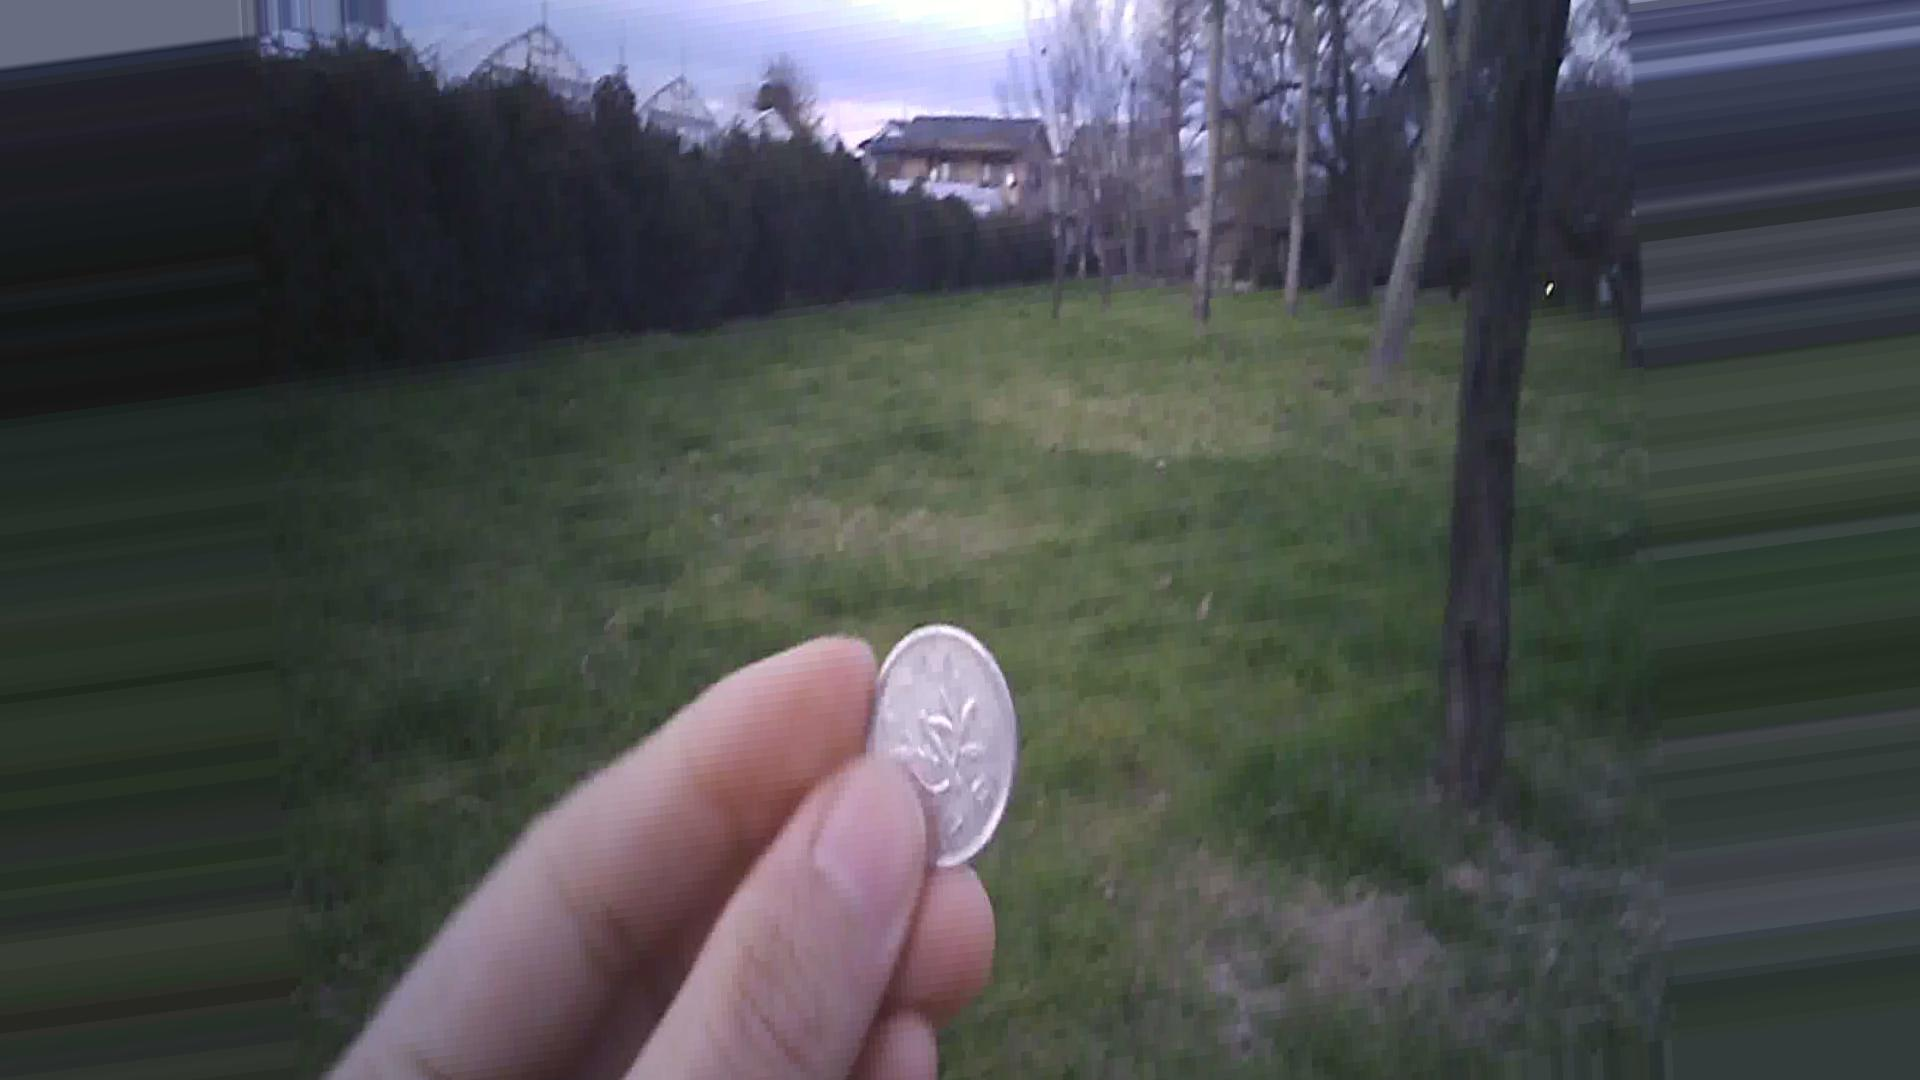1 Yen: (860, 618, 1023, 884)
